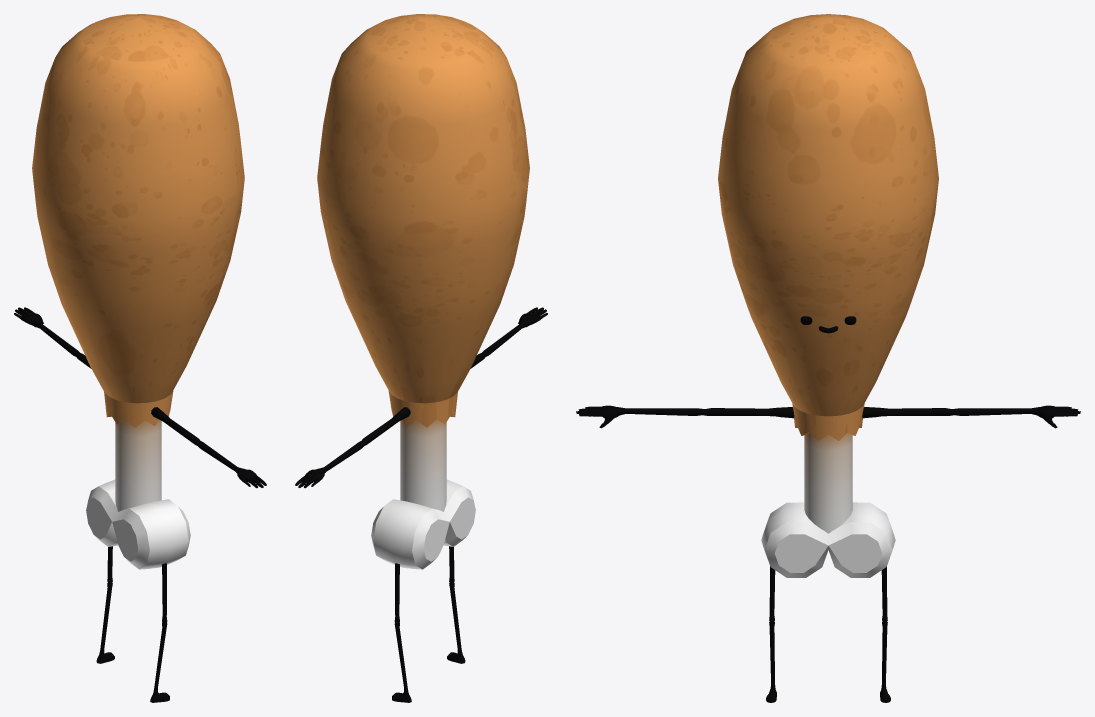
The model's file is Drumstick_Character.glb.
The picture shows the model from 3 angles, left to right: view 1: azimuth 30°, elevation 25°; view 2: azimuth 150°, elevation 25°; view 3: azimuth 270°, elevation 25°; orthographic projection. The views are drawn at different scales.
Parts seen in each view (by area): view 1: _100Avatars_141_CoolDrumstick; view 2: _100Avatars_141_CoolDrumstick; view 3: _100Avatars_141_CoolDrumstick.
Boxes of the visible parts, left/top/right/bottom form: _100Avatars_141_CoolDrumstick: left=14, top=14, right=266, bottom=702; _100Avatars_141_CoolDrumstick: left=295, top=14, right=547, bottom=702; _100Avatars_141_CoolDrumstick: left=576, top=14, right=1080, bottom=702.
Bounding box in the file's own units: 1.51 × 5.14 × 3.44.
1 material, 1 textured.
